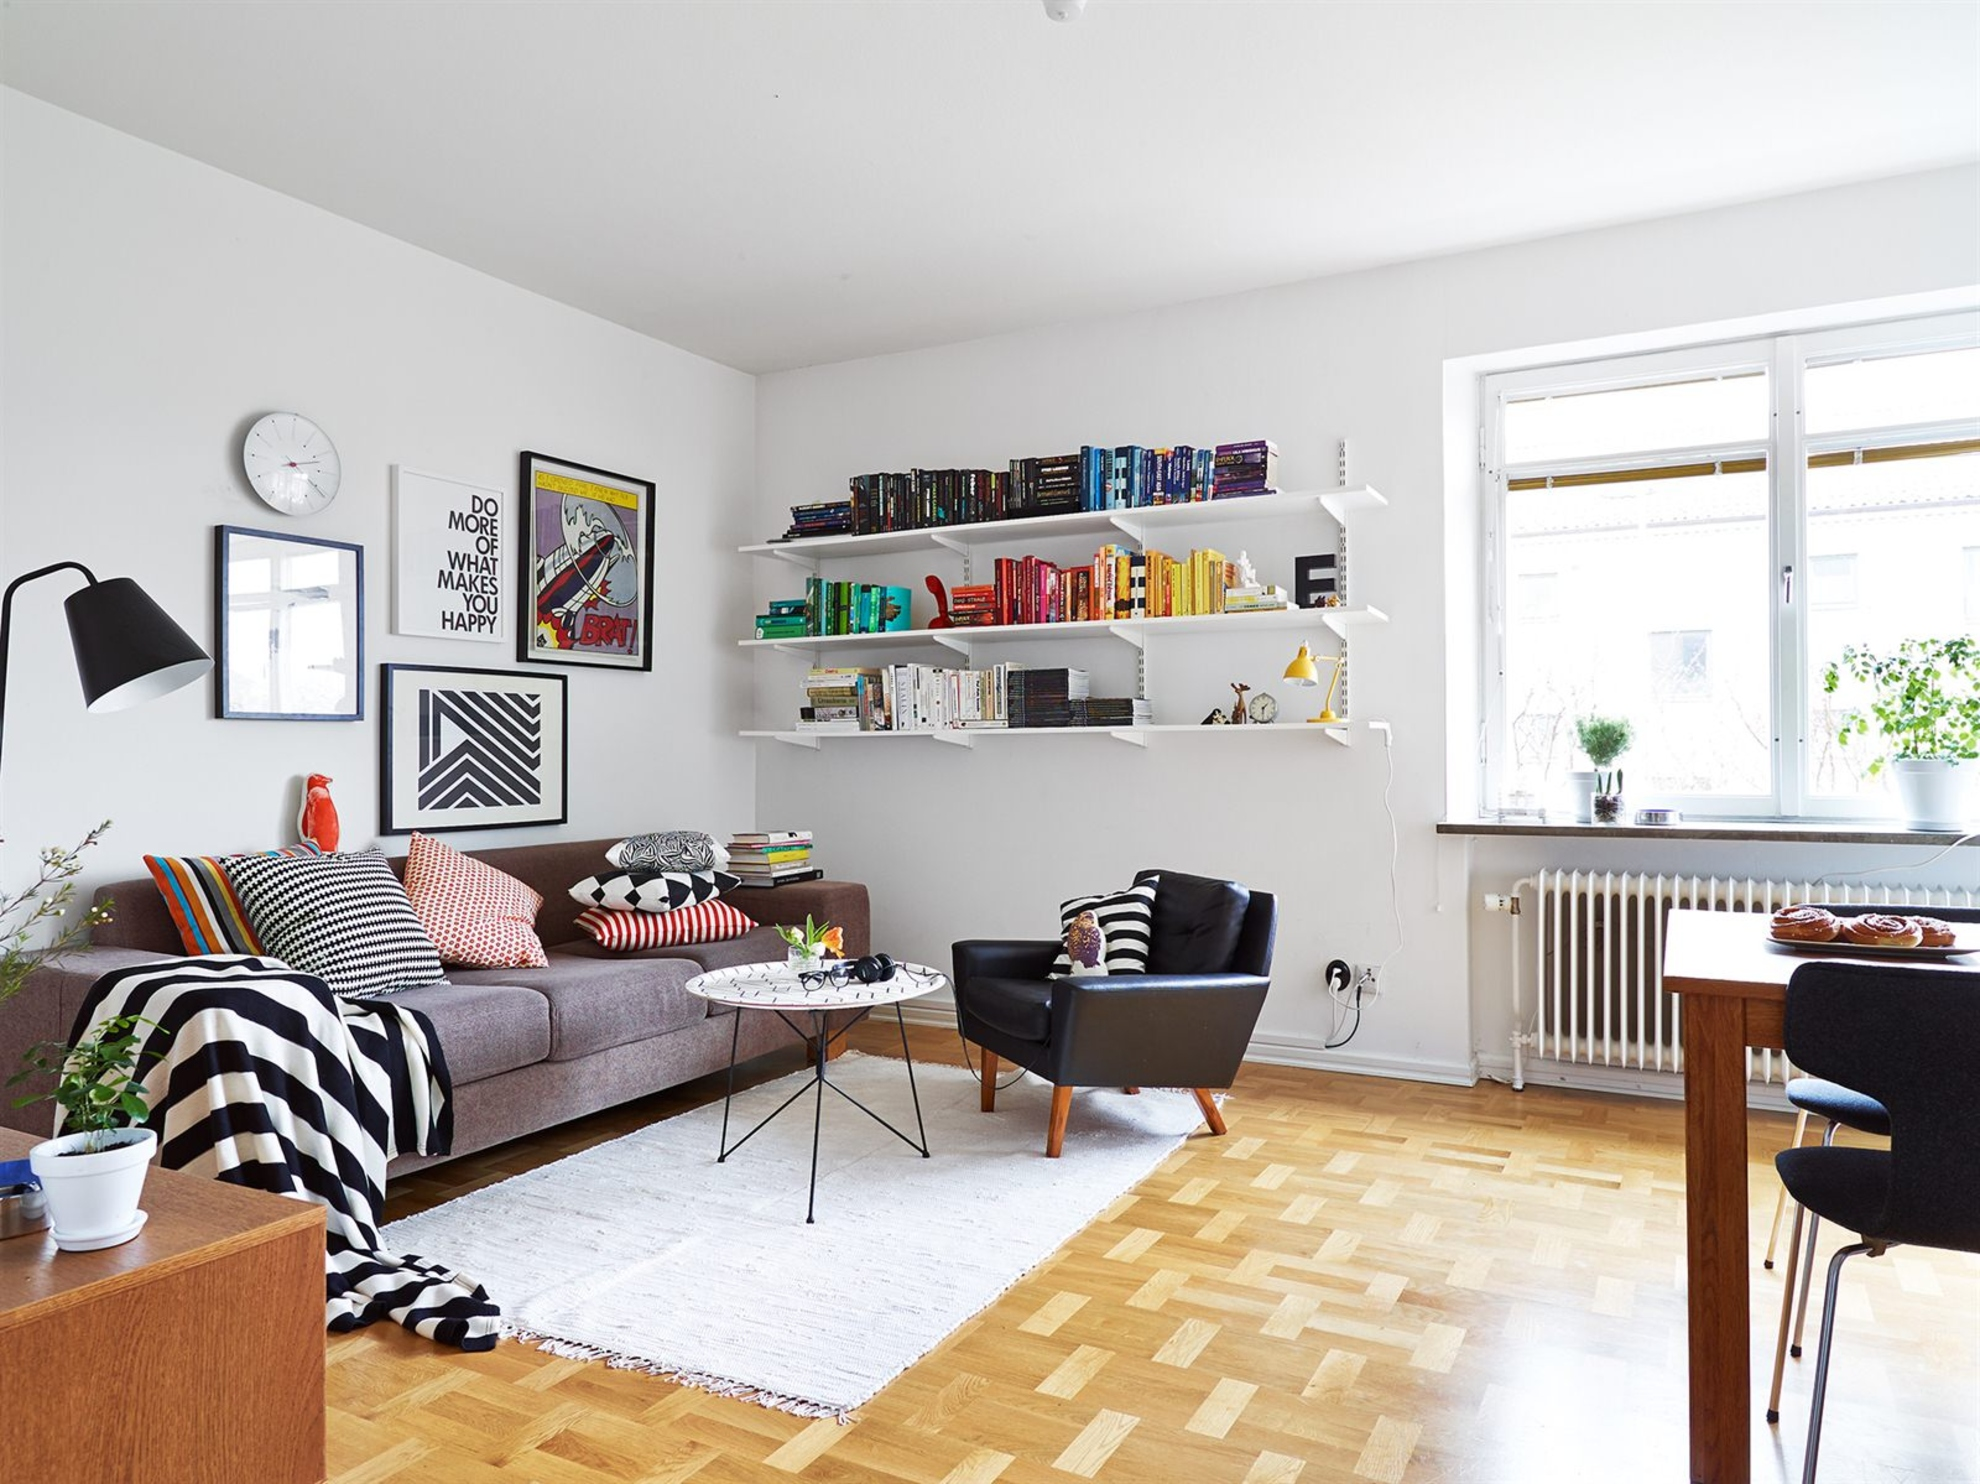coklat: (1667, 903, 1770, 1484)
hitam: (965, 871, 1271, 1101), (1787, 949, 1980, 1225), (61, 585, 196, 711)
putih: (34, 1129, 151, 1235), (1891, 758, 1978, 832)
